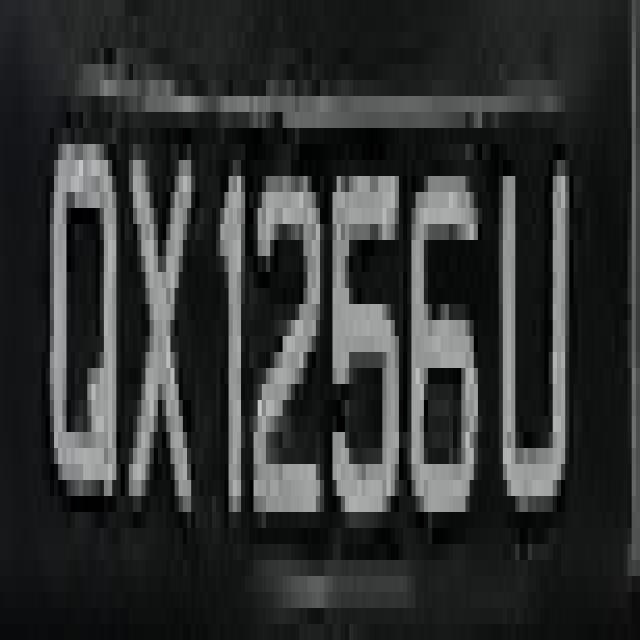1: (216, 112, 258, 560)
2: (245, 96, 333, 560)
5: (320, 96, 407, 608)
6: (412, 96, 482, 560)
Q: (42, 80, 125, 544)
U: (490, 112, 586, 576)
X: (112, 64, 200, 592)
